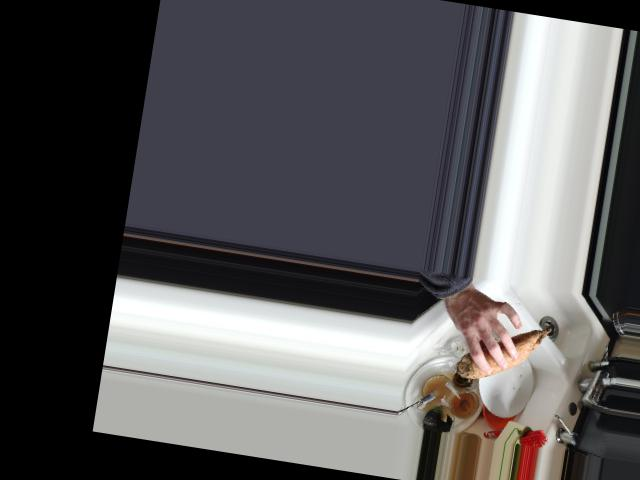sweet_potato: (455, 314, 552, 390)
